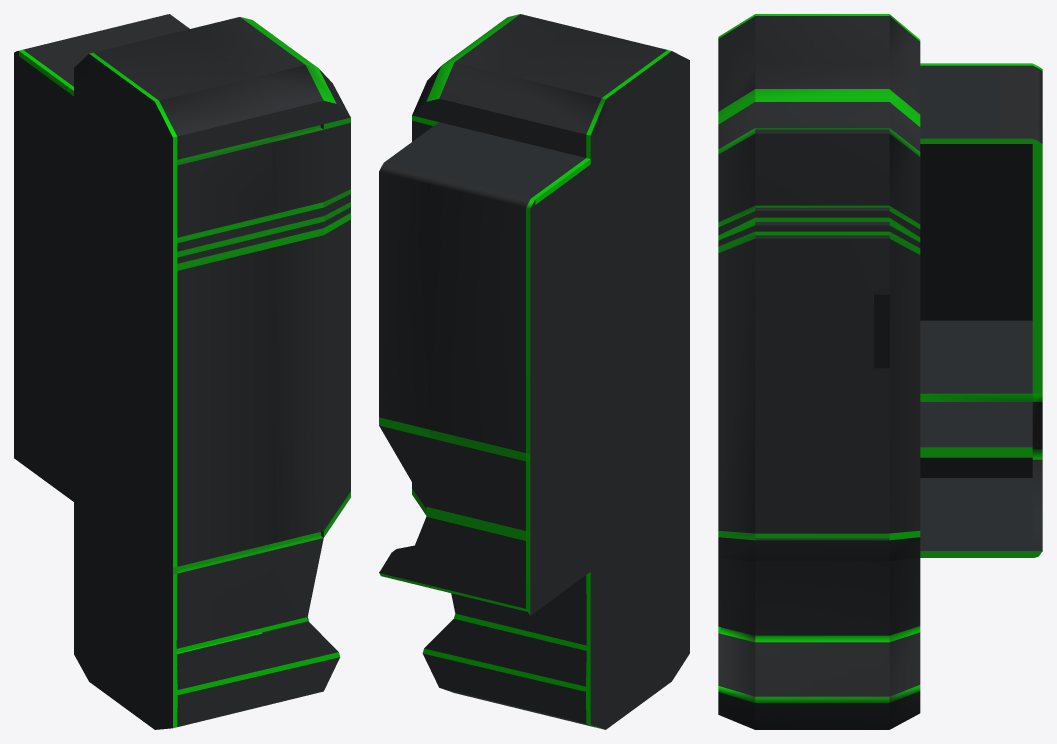
The model's file is locker_panel.fbx.
3 renders of one model, left to right at view 1: azimuth 30°, elevation 25°; view 2: azimuth 150°, elevation 25°; view 3: azimuth 270°, elevation 25°, orthographic. The views are drawn at different scales.
Visible parts, largest first — view 1: pCube30; view 2: pCube30; view 3: pCube30.
Part boxes in pixels (bbox=[...]): pCube30: bbox=[14, 14, 350, 729]; pCube30: bbox=[379, 14, 689, 729]; pCube30: bbox=[718, 14, 1042, 729].
Bounding box in the file's own units: 0.6904 × 2.19 × 1.
